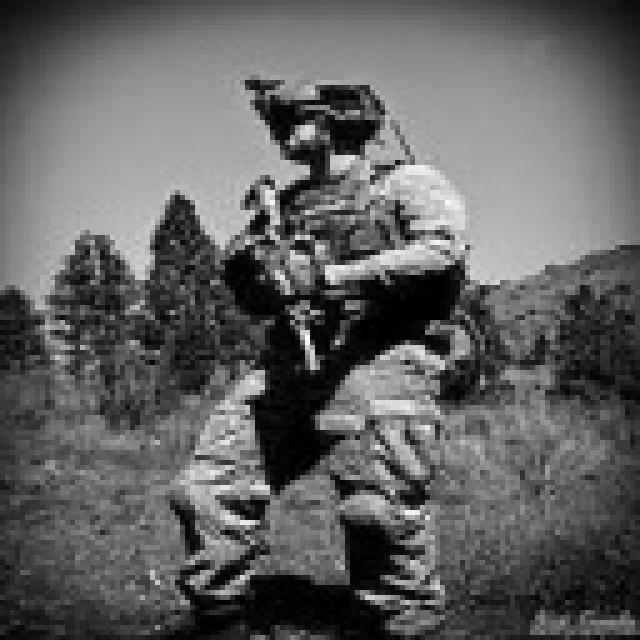Rifle: (226, 138, 394, 419)
